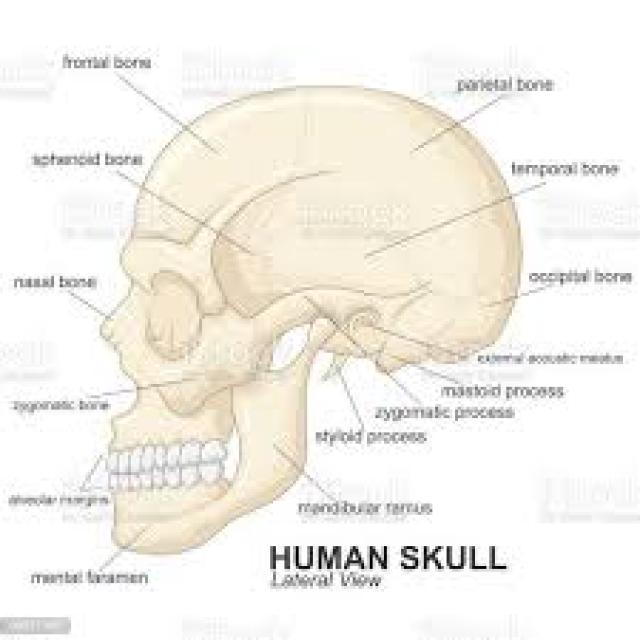skull: (90, 65, 534, 562)
